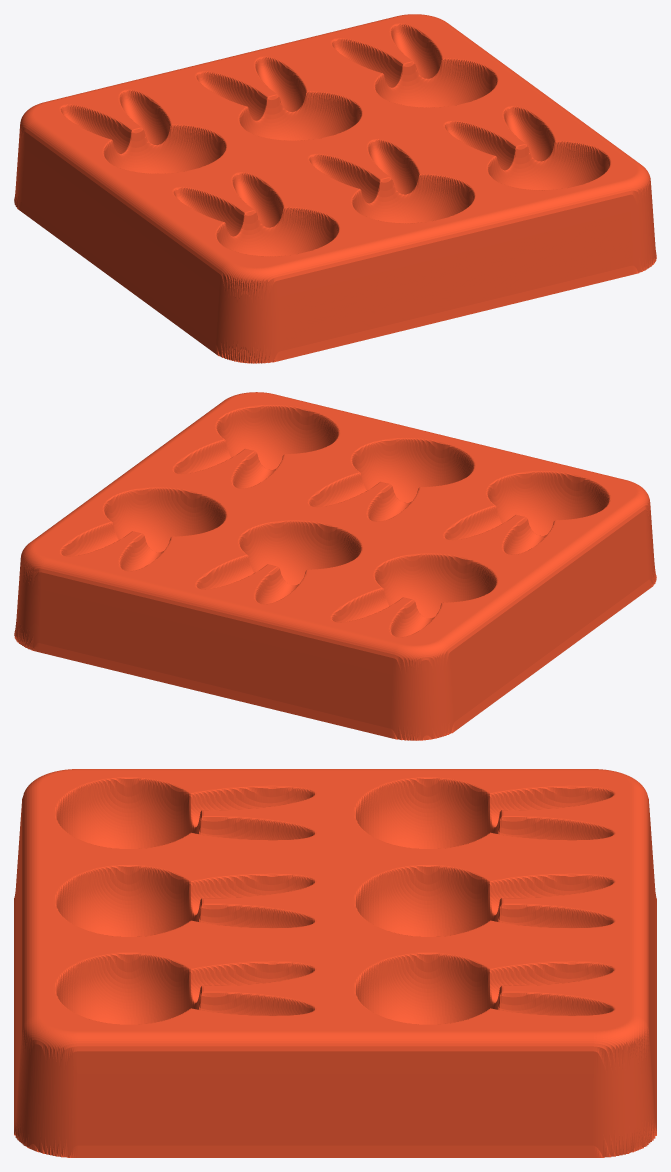
Rendered from mold.glb.
3 renders of one model, top to bottom at view 1: azimuth 30°, elevation 25°; view 2: azimuth 150°, elevation 25°; view 3: azimuth 270°, elevation 25°, orthographic. The views are drawn at different scales.
Visible parts, largest first — view 1: geometry_0; view 2: geometry_0; view 3: geometry_0.
Part boxes in pixels (bbox=[...]): geometry_0: bbox=[14, 14, 656, 363]; geometry_0: bbox=[14, 392, 656, 740]; geometry_0: bbox=[14, 769, 656, 1157].
Bounding box in the file's own units: 0.095 × 0.0182 × 0.0915.
